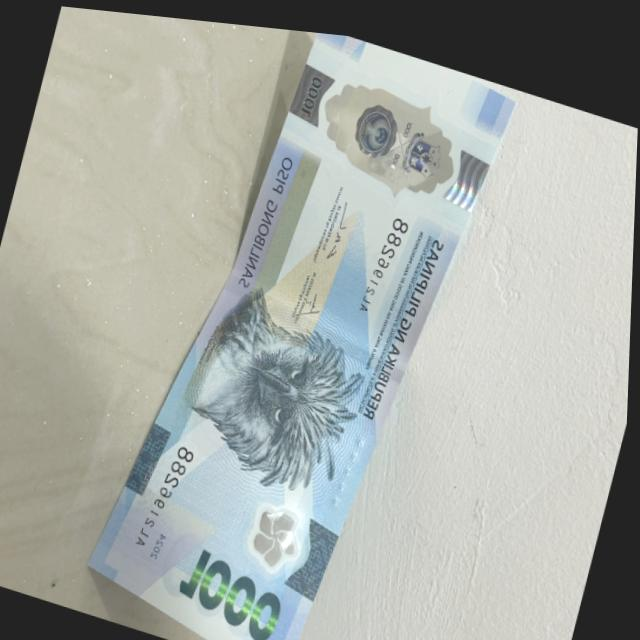clear_window: (301, 44, 488, 216)
eagle: (191, 279, 383, 502)
sampaguita: (242, 480, 311, 574)
serial_number: (131, 411, 206, 561), (341, 196, 408, 322)
